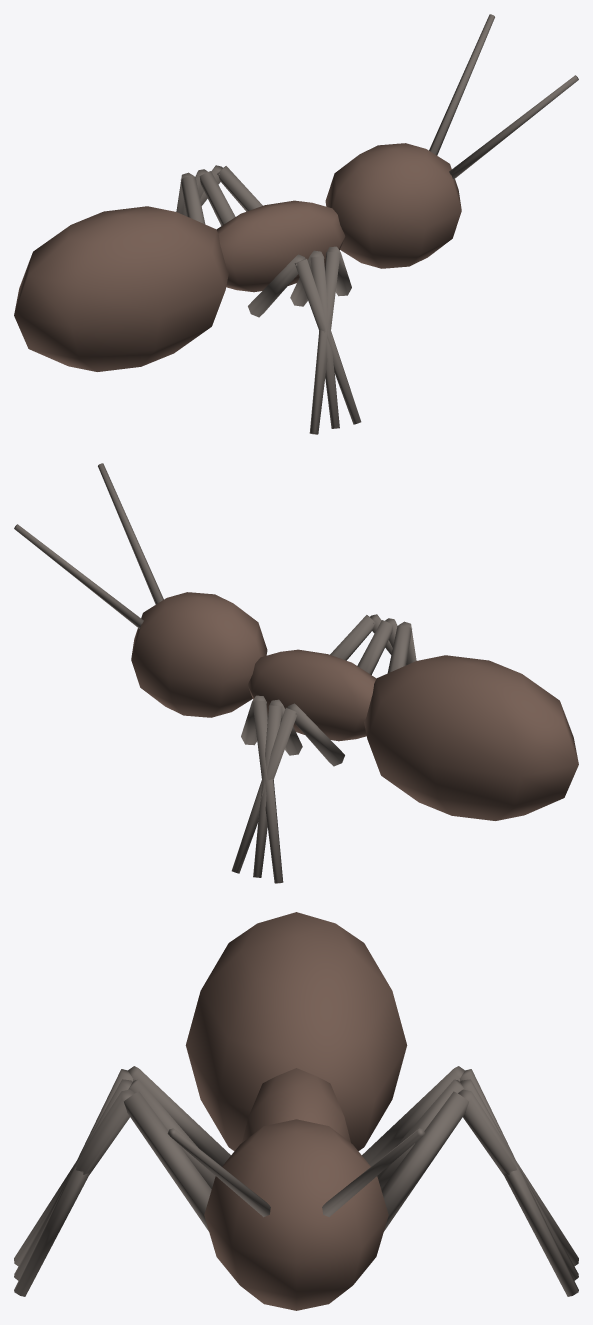
The model's file is kaohsiung-carpenter-ant.glb.
3 views of the same model, one above another, from view 1: azimuth 30°, elevation 25°; view 2: azimuth 150°, elevation 25°; view 3: azimuth 270°, elevation 25° (orthographic). The views are drawn at different scales.
Visible parts, largest first — view 1: e; view 2: e; view 3: e.
Part boxes in pixels (x1=…): e: x1=14, y1=14, x2=578, y2=434; e: x1=14, y1=463, x2=578, y2=883; e: x1=14, y1=912, x2=578, y2=1310.
Bounding box in the file's own units: 0.3372 × 0.1517 × 0.2143.
